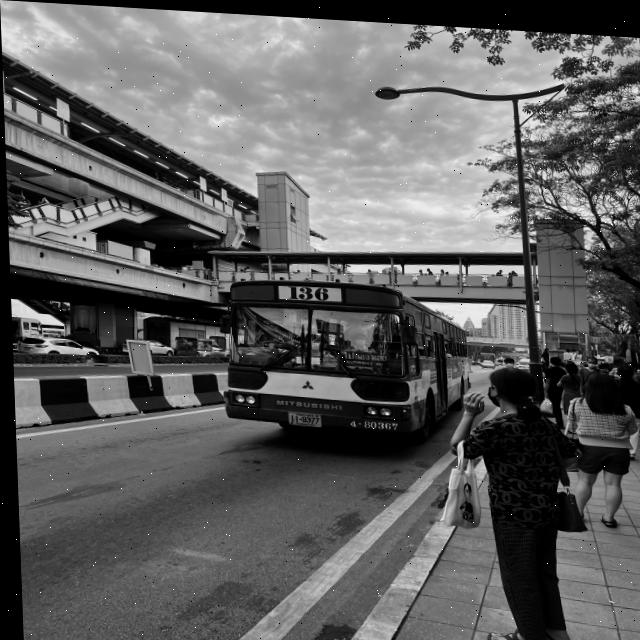BMTA-bus: (216, 274, 468, 439)
Bus-Line-Number: (276, 278, 343, 299)
Destination-Sign-Normal: (337, 346, 387, 365)
